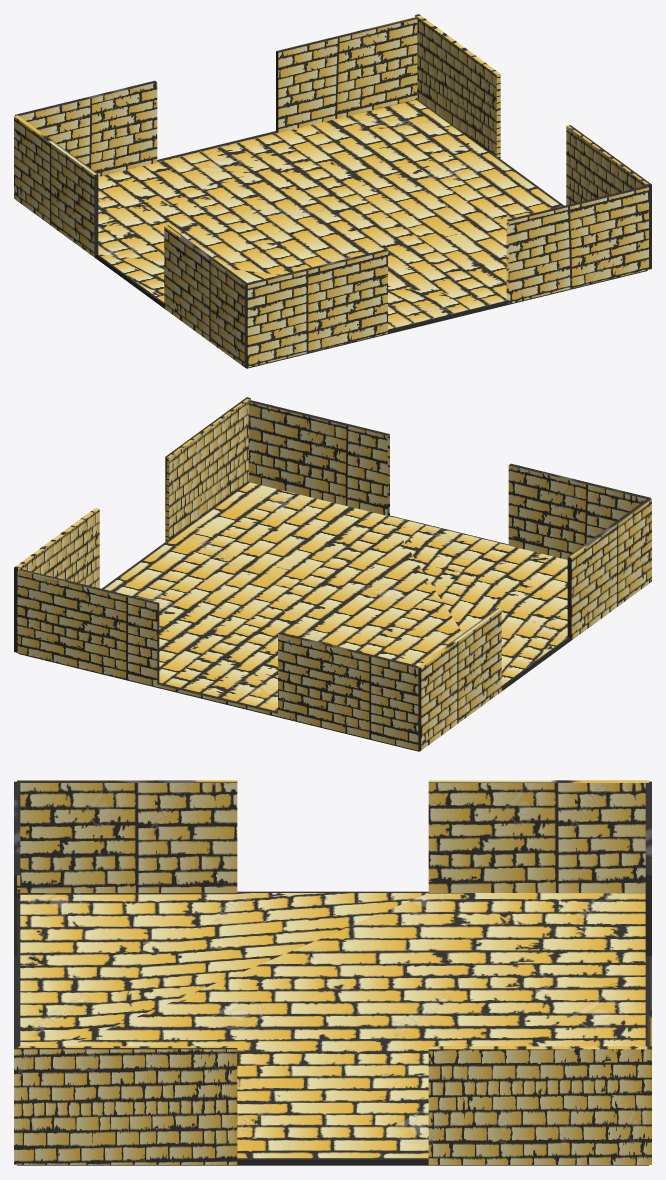
The model's file is habitacion4.fbx.
The picture shows the model from 3 angles, top to bottom: view 1: azimuth 30°, elevation 25°; view 2: azimuth 150°, elevation 25°; view 3: azimuth 270°, elevation 25°; orthographic projection. The views are drawn at different scales.
Parts seen in each view (by area): view 1: Habitacion; view 2: Habitacion; view 3: Habitacion.
Part boxes in pixels (<box>): Habitacion: <box>14,14,651,368</box>; Habitacion: <box>14,397,651,751</box>; Habitacion: <box>14,780,651,1165</box>.
Size of the model in its own units: 1007 by 205 by 1000.
